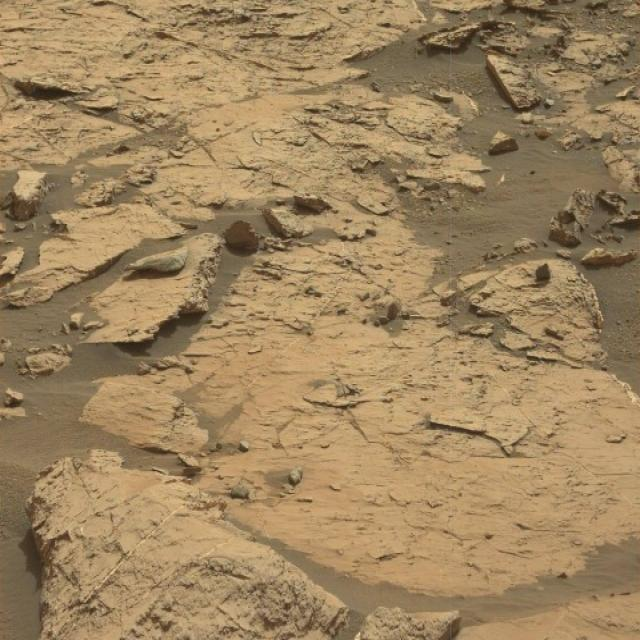rock: (8, 167, 49, 215), (224, 218, 258, 252)
